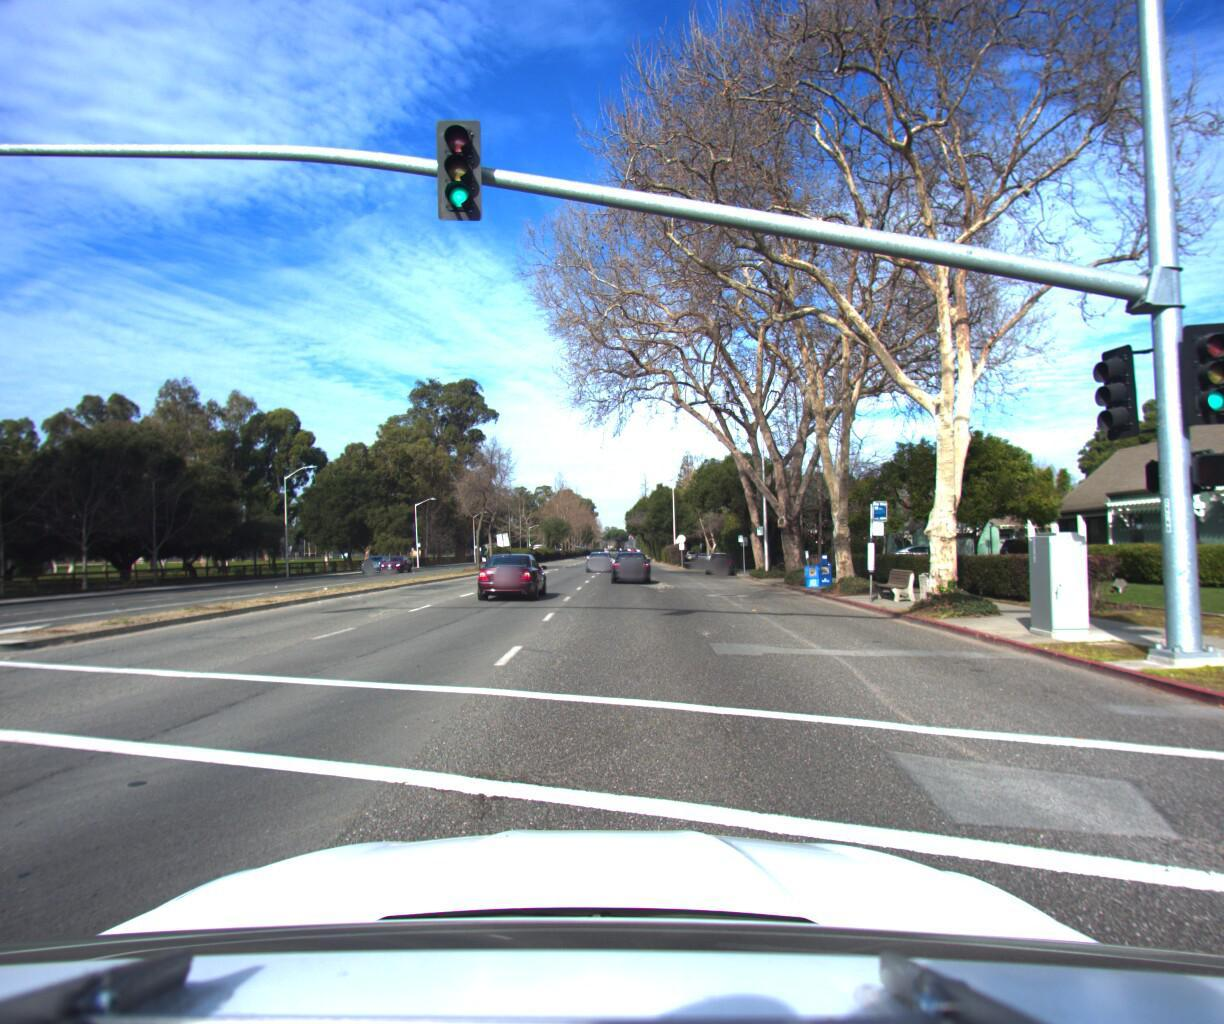car: (475, 544, 551, 597), (883, 533, 968, 563), (609, 542, 650, 576), (707, 544, 739, 569), (361, 544, 396, 564), (378, 546, 414, 566), (584, 544, 613, 565)
